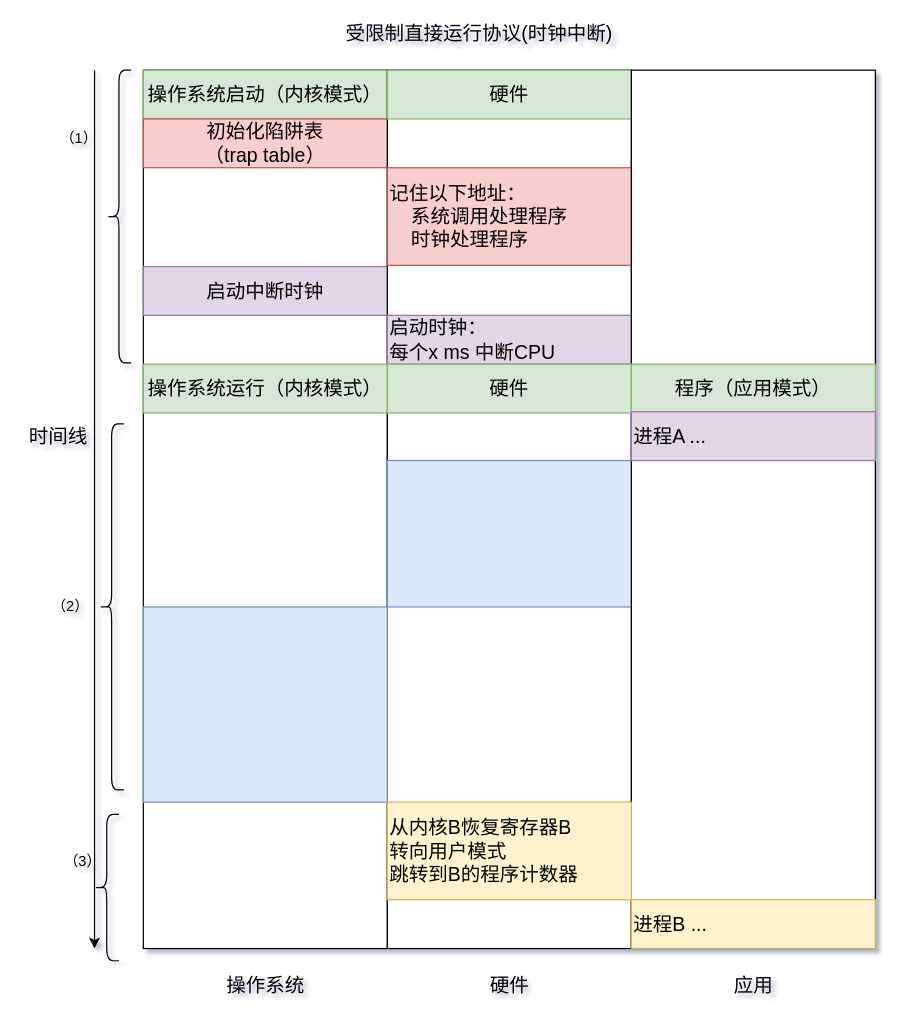
This 904x1025 diagram has some shape labels left out. The centre of each missing label's shape, as x and y in pixels:
处理陷阱 调用switch()例程 将寄存器A保存到进程结构A 将进程结构B恢复到寄存器B 从陷阱返回（进入B）: the point at 264,704
时钟中断 将寄存器（A）保存到内存栈（A） 转向内核模式 跳转到陷阱处理程序: the point at 508,533
